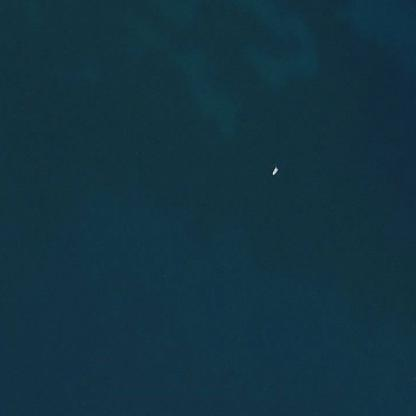ship: (270, 0, 278, 9)
